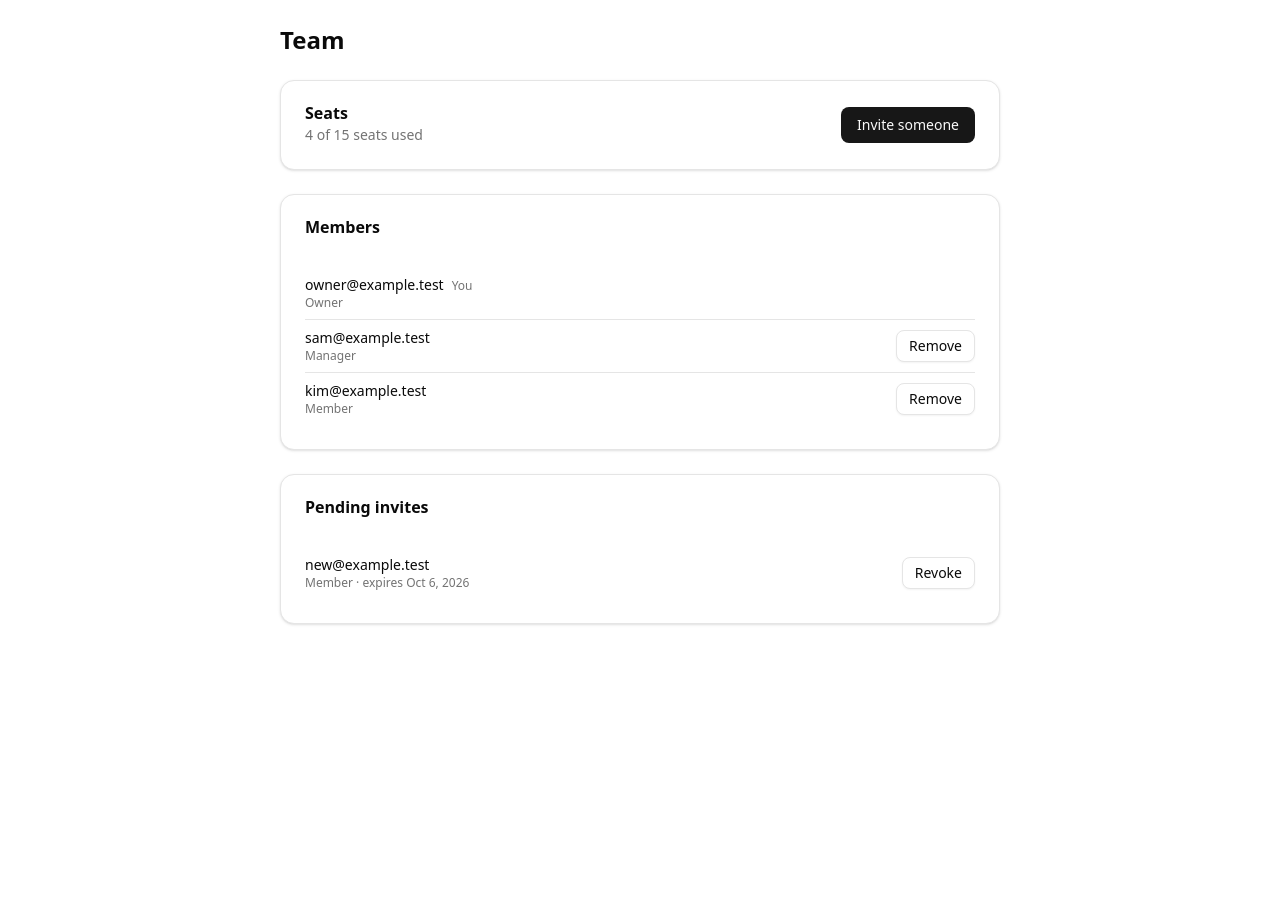
Scenario: TeamScreen › AC2 — a QUOTA_EXCEEDED race shows the same explanation
Click the button "Invite someone": click(908, 125) [841,107,975,143]
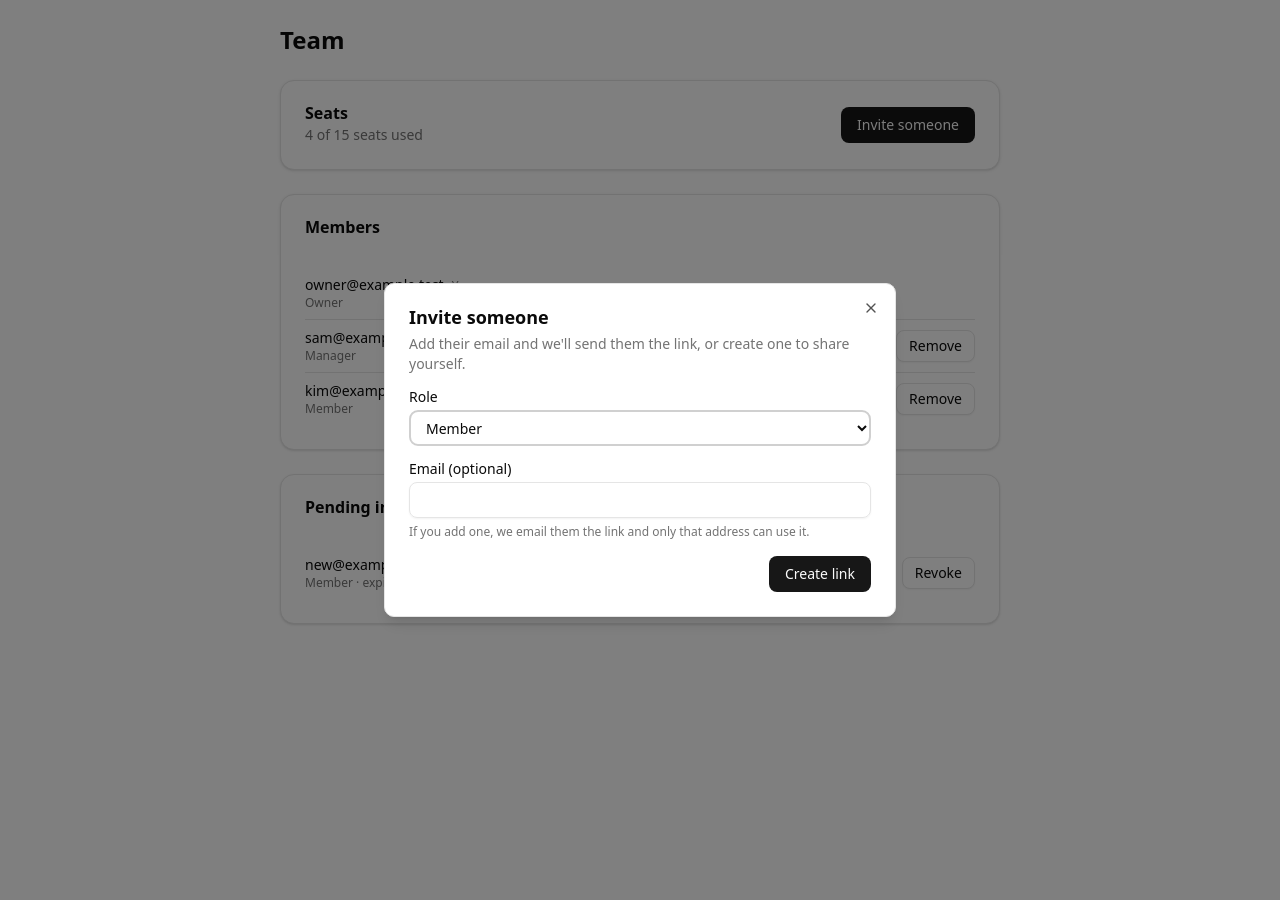
Click the button "Create link": click(820, 574) [769,556,871,592]
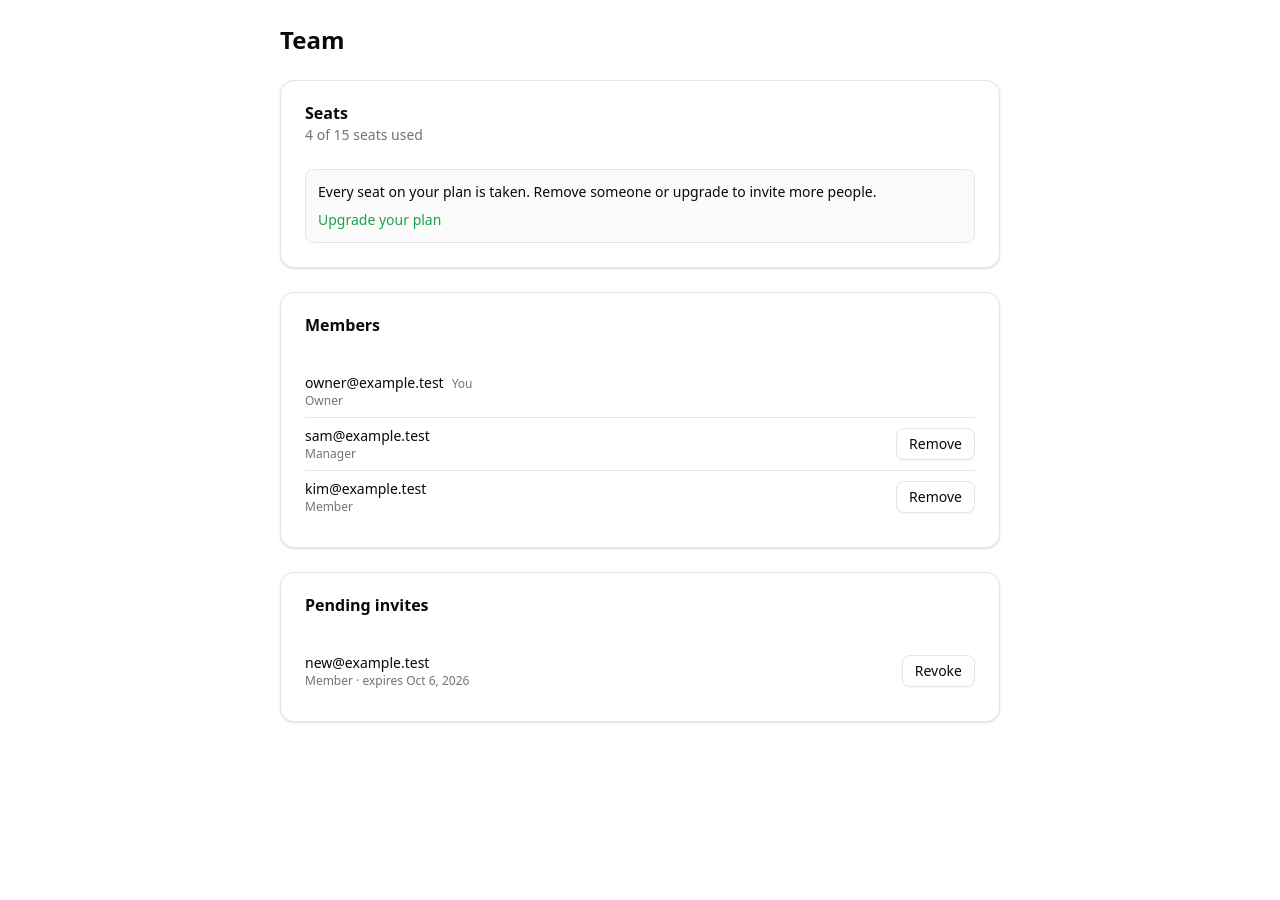
Expected: the text with test id "seat-explanation" is shown, [318,182,962,202]
Expected: the button "Invite someone" is gone
